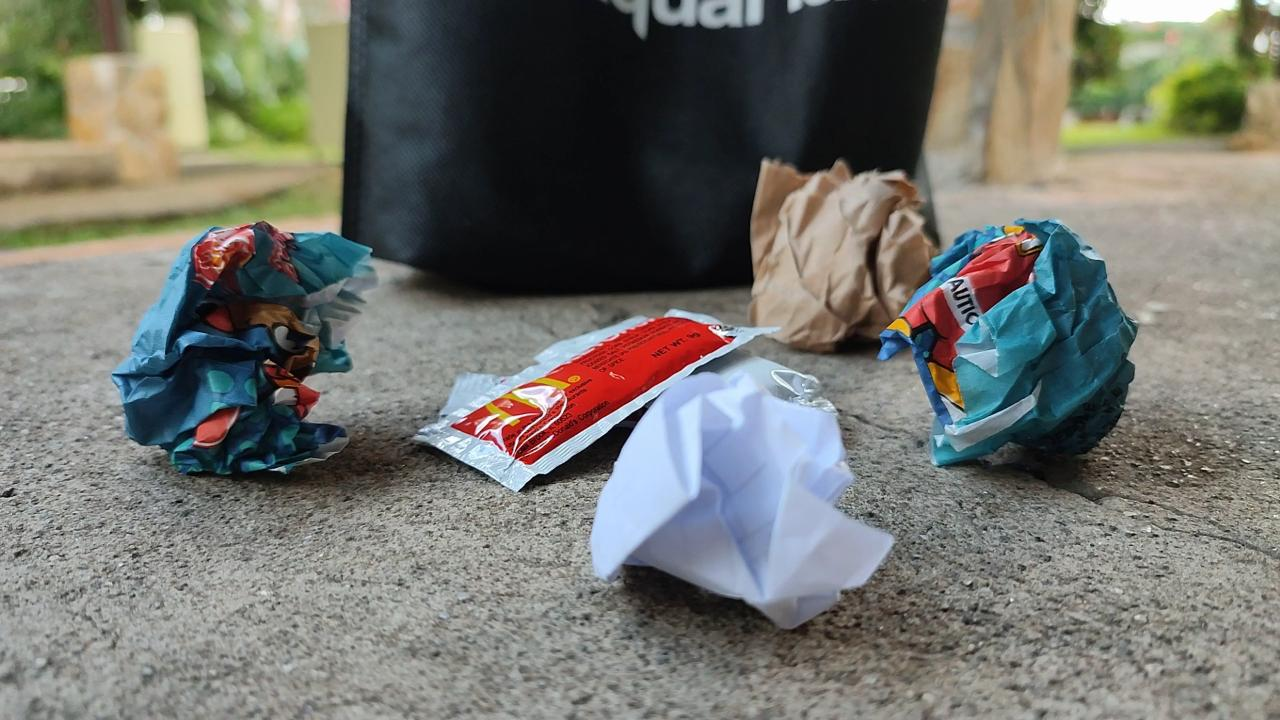paper: (87, 214, 373, 499), (603, 364, 890, 641), (877, 214, 1163, 474), (743, 151, 930, 356)
